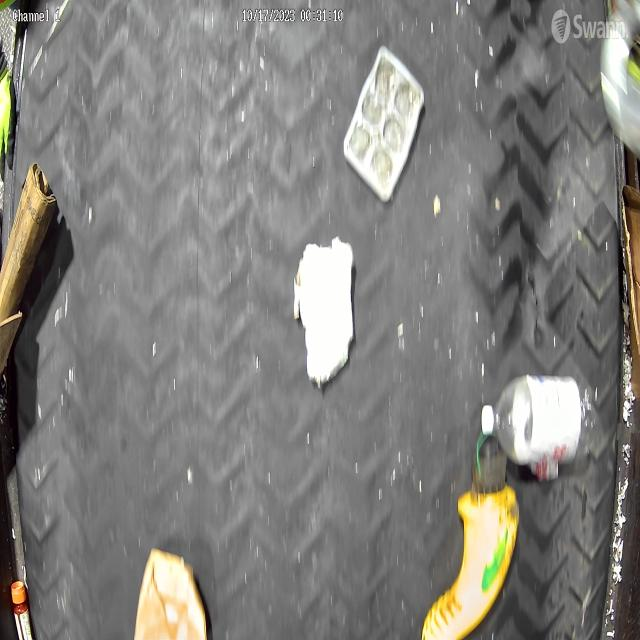plastic_bottle: (484, 374, 590, 475)
